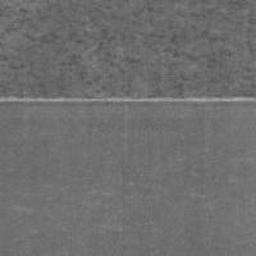Welding line: (0, 93, 256, 105)
